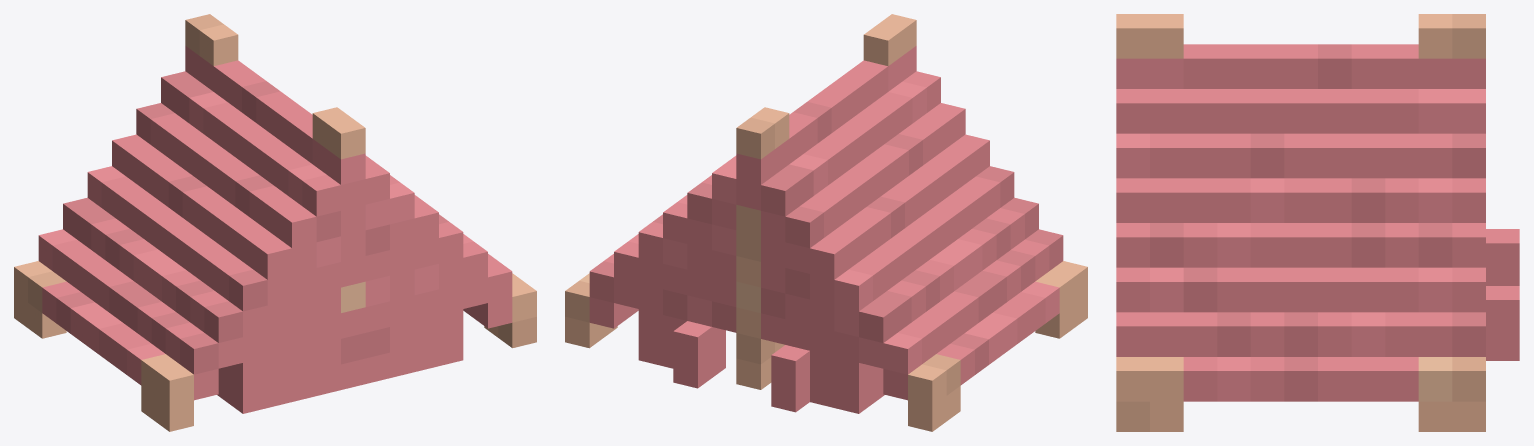
File: tent_detailedOpen.glb
3 views of the same model, side by side, from view 1: azimuth 30°, elevation 25°; view 2: azimuth 150°, elevation 25°; view 3: azimuth 270°, elevation 25° (orthographic). The views are drawn at different scales.
Visible parts, largest first — view 1: tent_detailedOpen; view 2: tent_detailedOpen; view 3: tent_detailedOpen.
Part boxes in pixels (<box>): tent_detailedOpen: <box>14,14,536,431</box>; tent_detailedOpen: <box>565,14,1087,431</box>; tent_detailedOpen: <box>1116,14,1519,431</box>.
Size of the model in its own units: 0.9375 by 0.625 by 0.75.
1 material, 1 textured.
